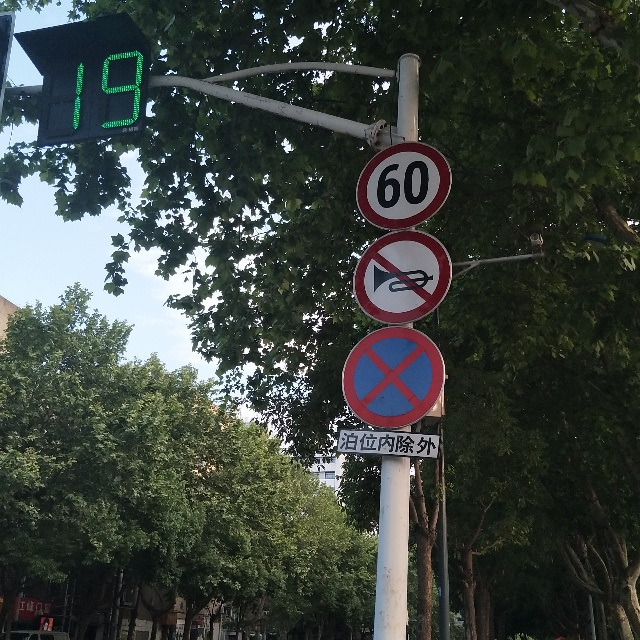nohonk: (350, 230, 452, 327)
stop: (337, 325, 449, 424)
